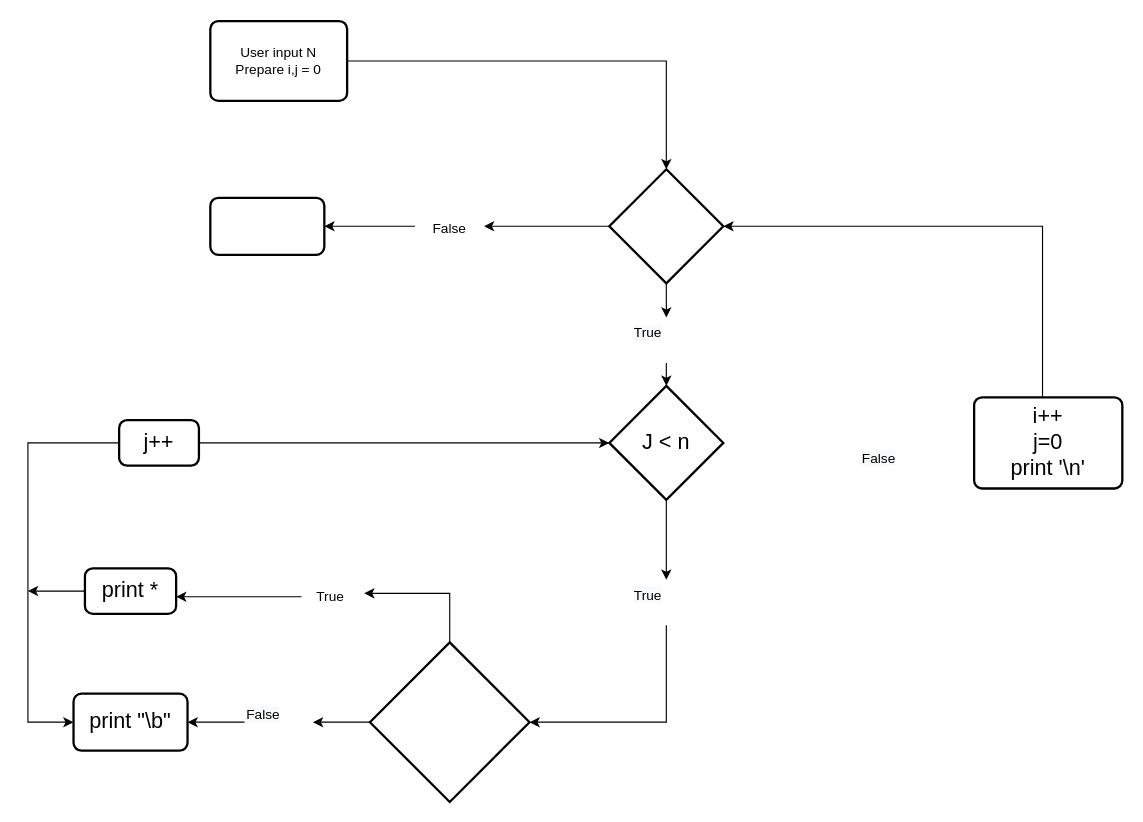
This 1143x822 diagram has some shape labels left out. The shapes that lost their labels are listed below. From the top down, each one's centre as x and y in pixels, then its label:
the point at 267,225: Finish
the point at 666,226: i<n
the point at 449,722: i == j or j == n -1
